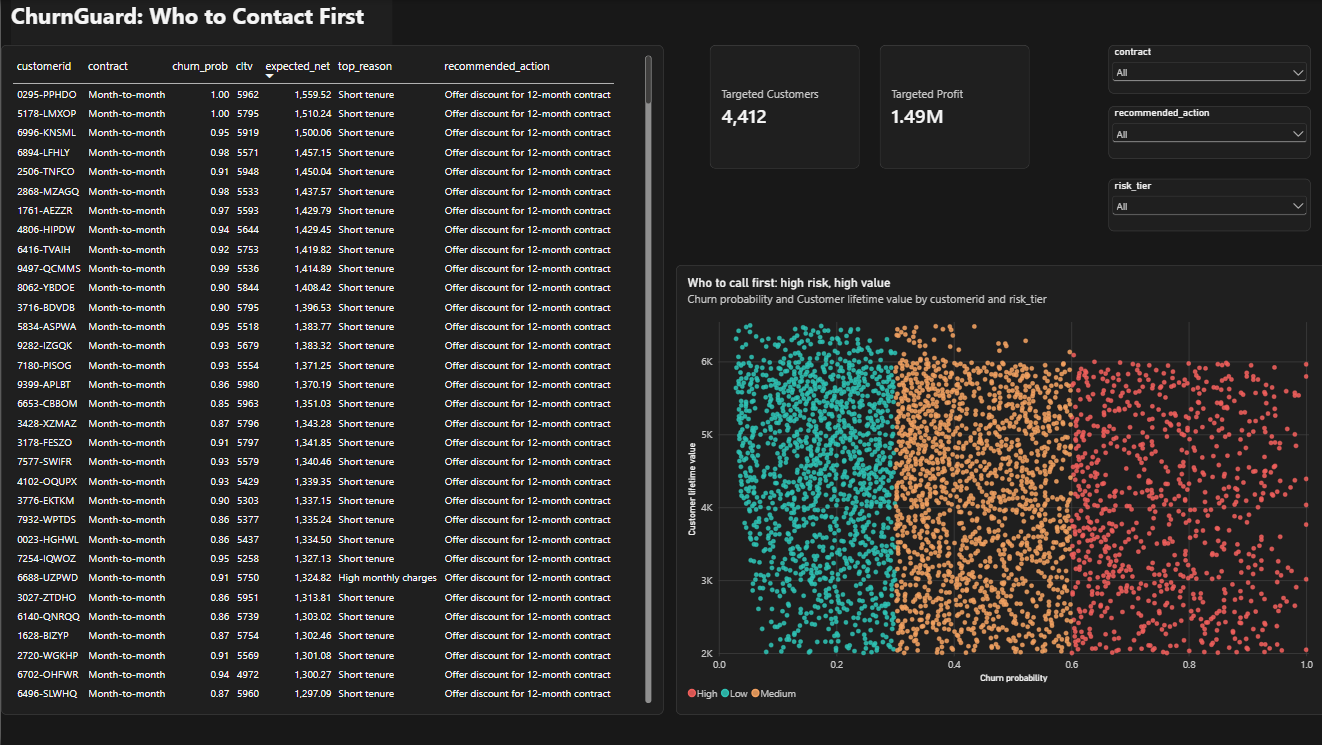

The dashboard page shown, as its layout file describes it:
{"tool":"powerbi","page":{"name":"Action list","canvas":[1920,1080],"ordinal":3},"visuals":[{"type":"tableEx","fields":{"Values":["predictions.customerid","predictions.contract","predictions.churn_prob","predictions.cltv","predictions.expected_net","predictions.top_reason","predictions.recommended_action"]},"box":[0,65.1,959.1,970],"z":0},{"type":"cardVisual","fields":{"Data":["predictions.Targeted Customers Display"]},"box":[1026.1,65.1,217.2,179.2],"z":1000},{"type":"cardVisual","fields":{"Data":["predictions.Targeted Profit"]},"box":[1272.2,65.1,217,179],"z":2000},{"type":"slicer","fields":{"Values":["predictions.risk_tier"]},"box":[1603.4,258.8,293.2,76],"z":3000},{"type":"slicer","fields":{"Values":["predictions.contract"]},"box":[1603.4,65.1,293.2,70.6],"z":4000},{"type":"slicer","fields":{"Values":["predictions.recommended_action"]},"box":[1603.4,153.8,293.2,76],"z":5000},{"type":"textbox","box":[14.5,0,551.9,65.1],"z":6000},{"type":"scatterChart","title":"Who to call first: high risk, high value","fields":{"Category":["predictions.customerid"],"Series":["predictions.risk_tier"],"X":["Avg(predictions.churn_prob)"],"Y":["Avg(predictions.cltv)"]},"box":[977.2,383.6,942.8,651.5],"z":7000}]}

Visuals, with their boxes in screenshot pixels (x1, y1, x2, y2), scaled from the page's 1920x1080 canvas onto the 1322x745 screenshot:
tableEx - predictions.customerid x predictions.contract: l=0, t=45, r=660, b=714
cardVisual - predictions.Targeted Customers Display: l=707, t=45, r=856, b=169
cardVisual - predictions.Targeted Profit: l=876, t=45, r=1025, b=168
slicer - predictions.risk_tier: l=1104, t=179, r=1306, b=231
slicer - predictions.contract: l=1104, t=45, r=1306, b=94
slicer - predictions.recommended_action: l=1104, t=106, r=1306, b=159
textbox: l=10, t=0, r=390, b=45
"Who to call first: high risk, high value" scatterChart: l=673, t=265, r=1321, b=714
